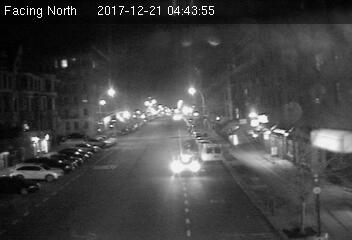car: (169, 152, 202, 176)
truck: (202, 145, 222, 163)
